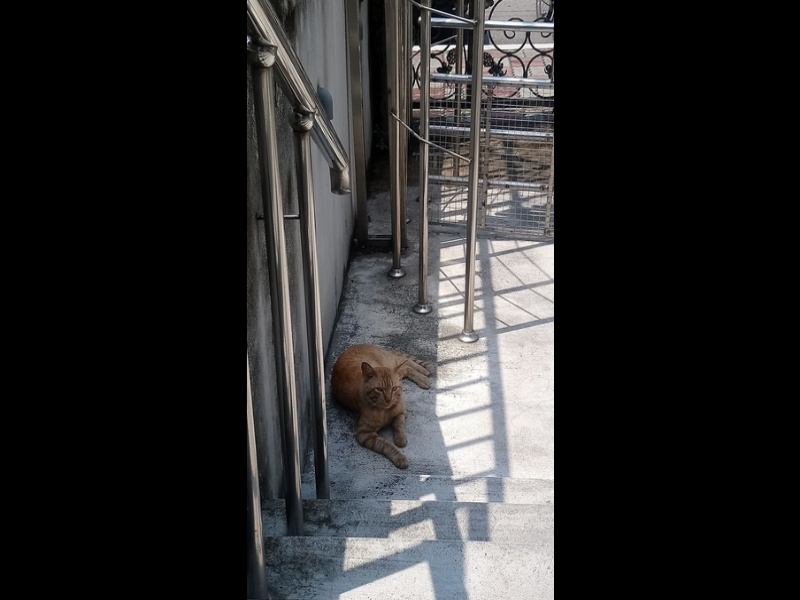cat: (333, 340, 433, 479)
